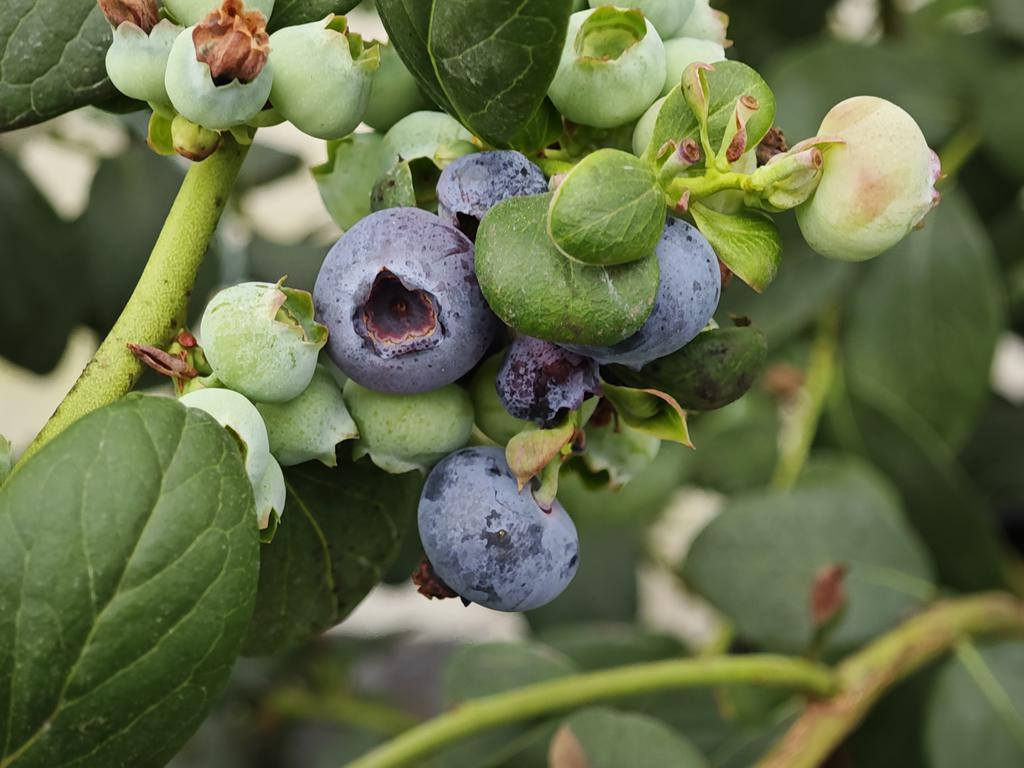RipeBlueBerry: (310, 203, 496, 399), (412, 443, 586, 616)
UnripeBlueBerry: (798, 94, 948, 268)
